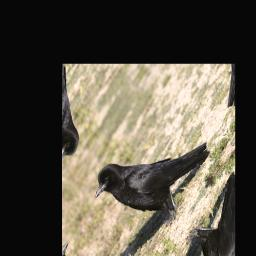Crow: (87, 91, 218, 252)
